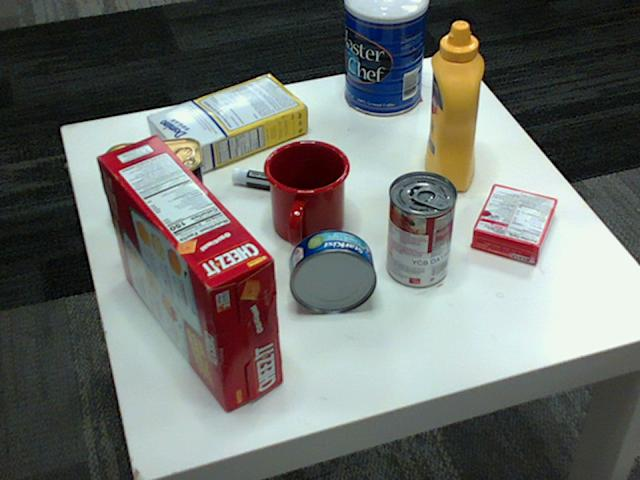cracker_box: (95, 134, 283, 409)
gelatin_box: (472, 184, 557, 263)
large_marker: (230, 170, 332, 198)
master_chef_can: (343, 0, 426, 115)
mug: (264, 137, 351, 244)
mustard_bottle: (424, 21, 483, 190)
potted_meat_can: (105, 137, 207, 232)
sugar_box: (147, 72, 309, 176)
tomato_soup_can: (386, 171, 456, 287)
tuna_fish_can: (290, 229, 377, 312)
